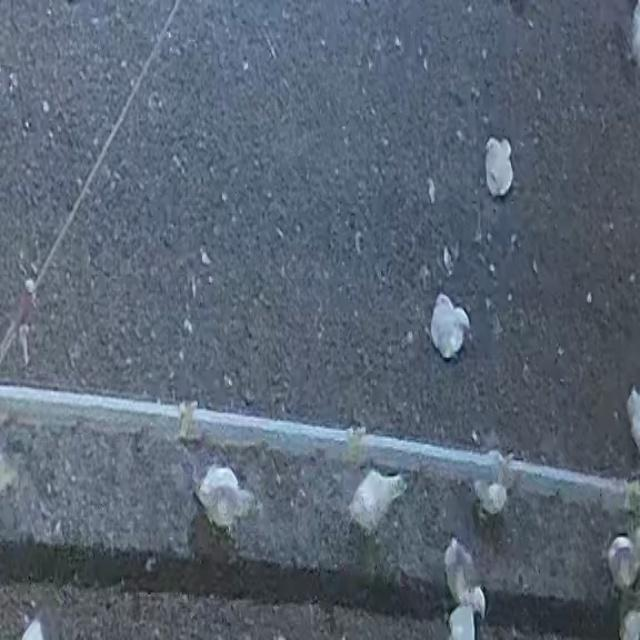chicken: (347, 469, 407, 533), (192, 465, 246, 534), (442, 538, 487, 615), (426, 289, 472, 363), (483, 136, 515, 198), (606, 536, 636, 590)
